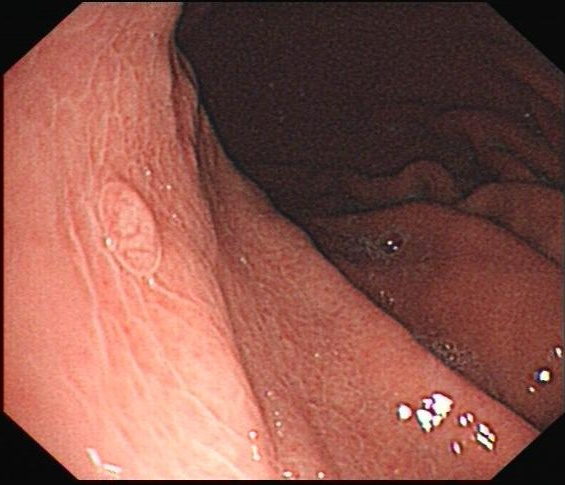Polyp: (93, 170, 171, 280)
